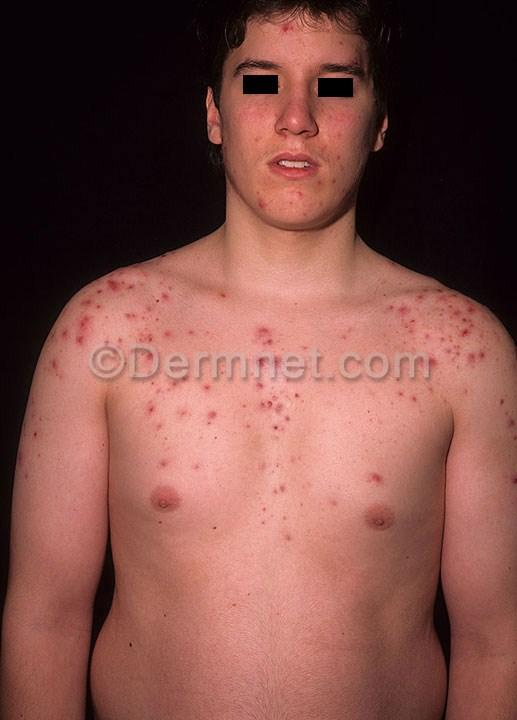Acne: (365, 262, 475, 371), (65, 280, 182, 352), (249, 313, 297, 438)
